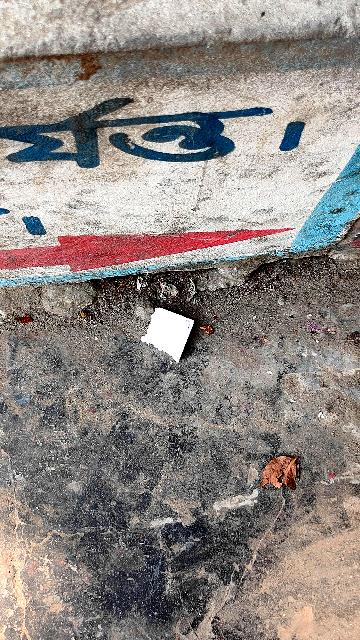cocksheet: (137, 305, 202, 370)
